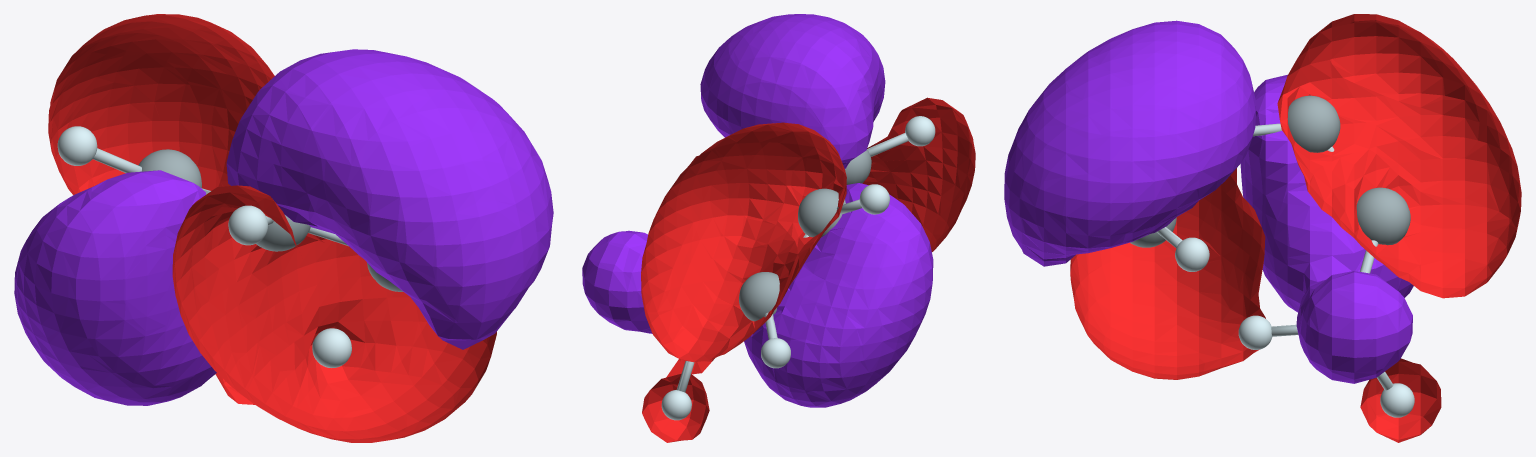
3 renders of one model, left to right at view 1: azimuth 30°, elevation 25°; view 2: azimuth 150°, elevation 25°; view 3: azimuth 270°, elevation 25°, orthographic. The views are drawn at different scales.
Visible parts, largest first — view 1: Renderer Node; view 2: Renderer Node; view 3: Renderer Node.
Boxes of the visible parts, x1,y1,x2,y2 form: Renderer Node: [14, 14, 553, 442]; Renderer Node: [582, 14, 975, 442]; Renderer Node: [1004, 14, 1521, 442].
Bounding box in the file's own units: 4.79 × 4.98 × 5.97.
